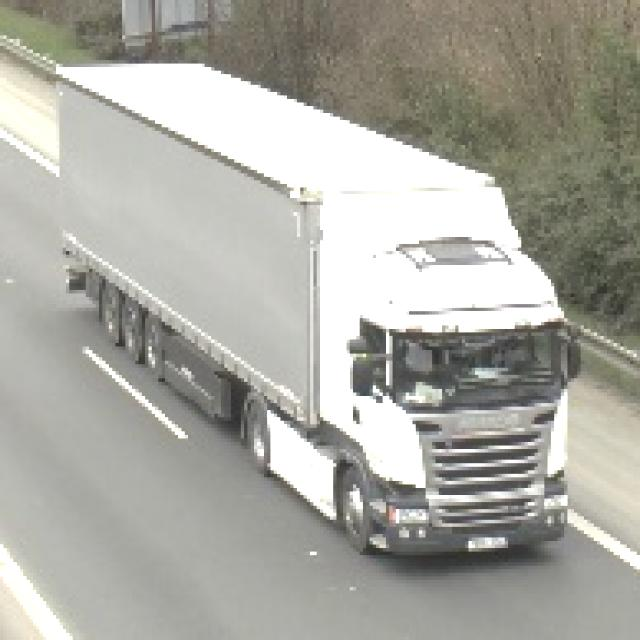TRUCK: (48, 63, 579, 570)
